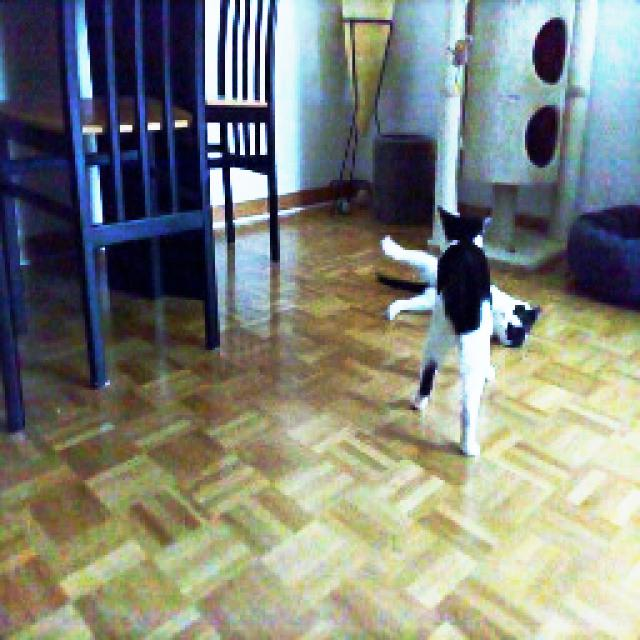cat: (415, 200, 514, 468), (372, 232, 541, 352)
